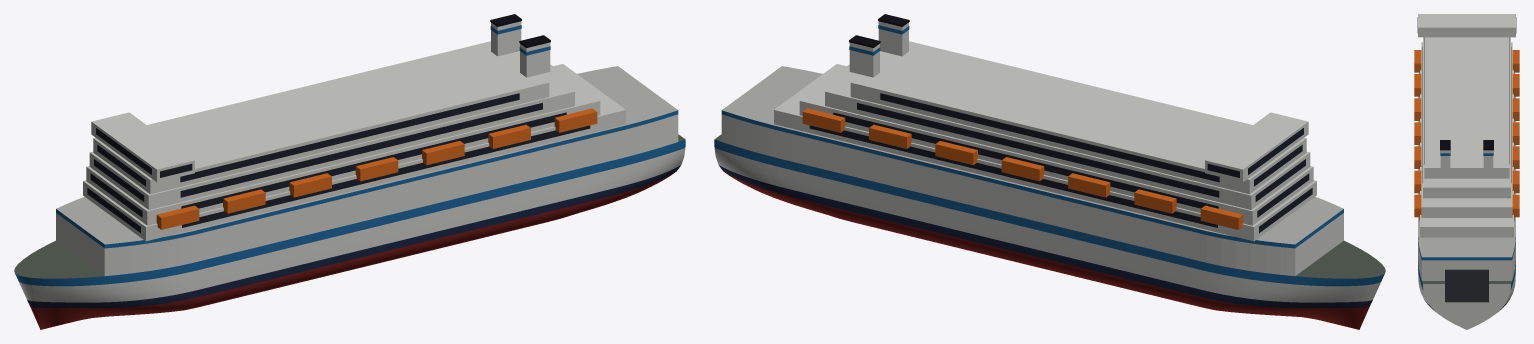
File: ferry.glb
3 renders of one model, left to right at view 1: azimuth 30°, elevation 25°; view 2: azimuth 150°, elevation 25°; view 3: azimuth 270°, elevation 25°, orthographic. The views are drawn at different scales.
Parts seen in each view (by area): view 1: ferry; view 2: ferry; view 3: ferry.
Boxes of the visible parts, x1,y1,x2,y2 form: ferry: (14,14,685,329); ferry: (714,14,1385,329); ferry: (1414,14,1519,329).
Bounding box in the file's own units: 135 × 36.86 × 25.79.
